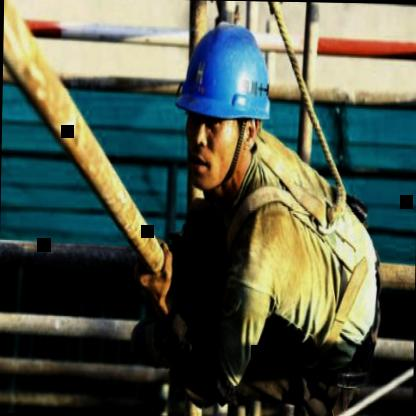helmet: (160, 0, 283, 214)
